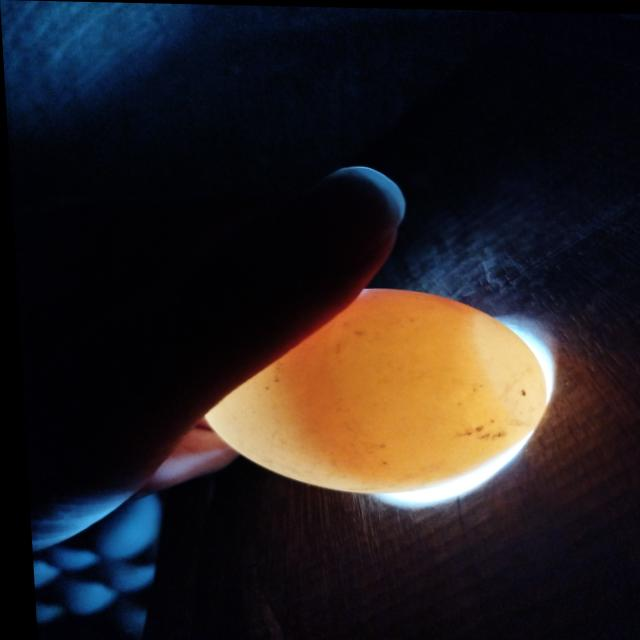Camara de Ar: (471, 310, 544, 425)
Gema Quebrada: (282, 287, 459, 479)
